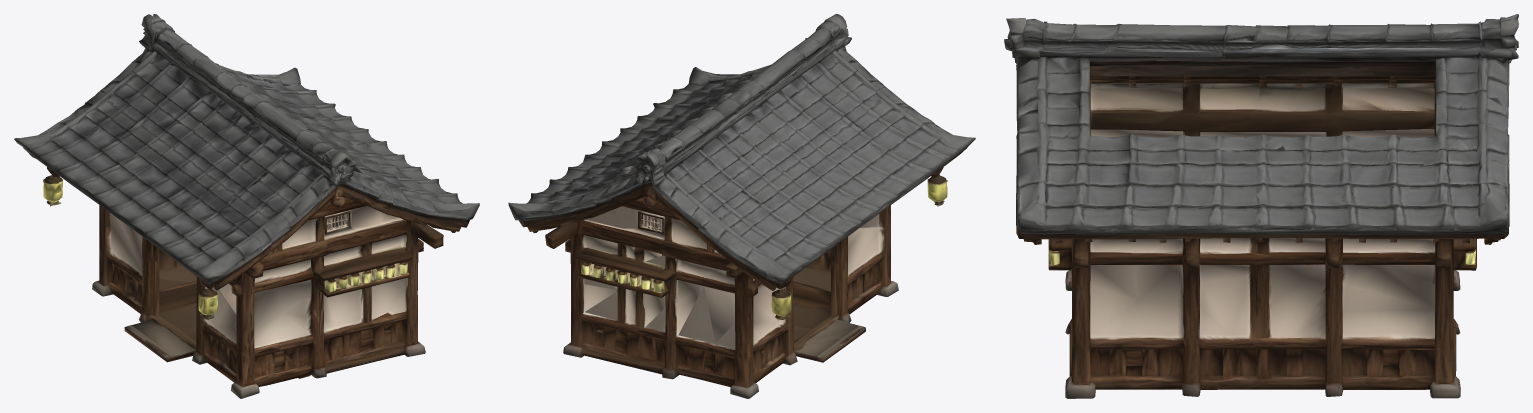
File: bld_japan_hall1f.fbx
The picture shows the model from 3 angles, left to right: view 1: azimuth 30°, elevation 25°; view 2: azimuth 150°, elevation 25°; view 3: azimuth 270°, elevation 25°; orthographic projection. The views are drawn at different scales.
Visible parts, largest first — view 1: bld_japan_hall1f_LOD0; view 2: bld_japan_hall1f_LOD0; view 3: bld_japan_hall1f_LOD0.
Part boxes in pixels (x1=…): bld_japan_hall1f_LOD0: x1=14, y1=14, x2=479, y2=398; bld_japan_hall1f_LOD0: x1=508, y1=14, x2=975, y2=398; bld_japan_hall1f_LOD0: x1=1004, y1=14, x2=1518, y2=398.
Size of what is drawn, in the model's own units: 0.8107 by 0.6662 by 0.9794.
